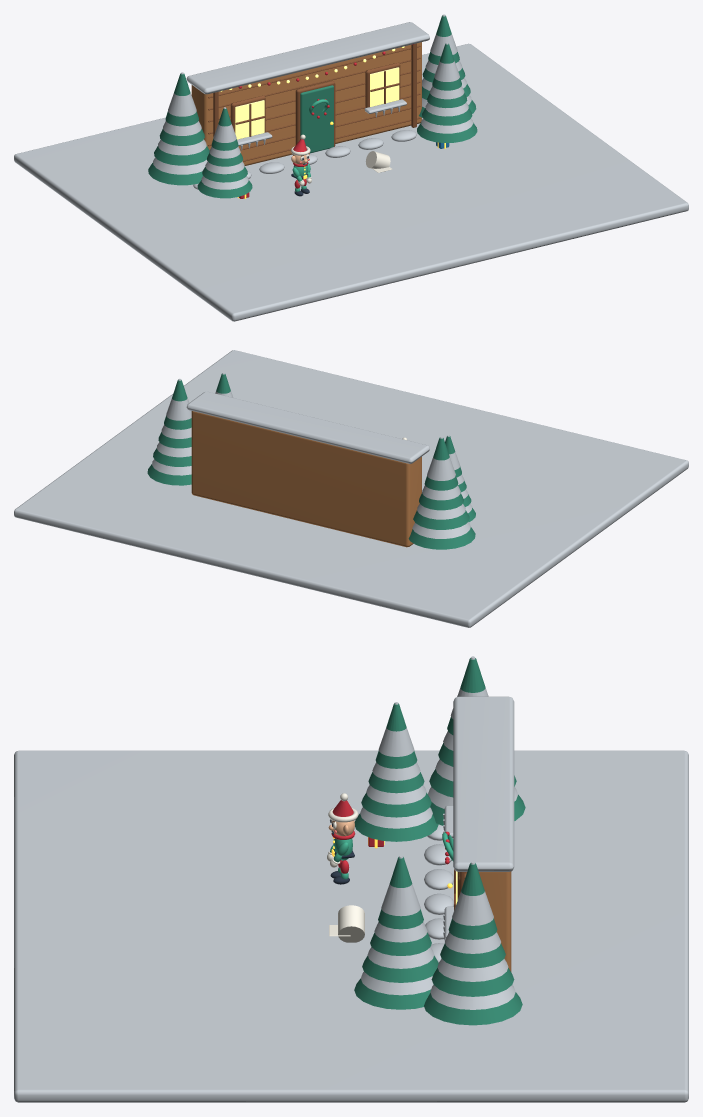
Rendered from chapter-15.glb.
The picture shows the model from 3 angles, top to bottom: view 1: azimuth 30°, elevation 25°; view 2: azimuth 150°, elevation 25°; view 3: azimuth 270°, elevation 25°; orthographic projection. The views are drawn at different scales.
Parts seen in each view (by area): view 1: Schneeboden, Werkstatt, Schneegesims, Wichteltür, Warmes Fenster, Warmes Fenster.001, Tannenzweig.004, Tannenzweig.008, Tannenzweig.009, Türrahmen, Tannenzweig.011, Schnee.011 (+7 smaller); view 2: Schneeboden, Werkstatt, Schneegesims, Tannenzweig.008, Tannenzweig.009, Tannenzweig.011, Schnee.008, Schnee.011, Tannenzweig.015, Tannenzweig.012, Tannenzweig.010, Schnee.009 (+1 smaller); view 3: Schneeboden, Schneegesims, Werkstatt, Tannenzweig.012, Tannenzweig.013, Tannenzweig.015, Tannenzweig, Schnee.012, Tannenzweig.005, Tannenzweig.004, Schnee.015, Tannenzweig.007 (+16 smaller).
Boxes of the visible parts, <box> form: Schneeboden: <box>14,43,688,321</box>; Werkstatt: <box>191,42,421,165</box>; Schneegesims: <box>186,22,429,94</box>; Wichteltür: <box>300,85,333,153</box>; Warmes Fenster: <box>235,100,264,139</box>; Warmes Fenster.001: <box>370,67,399,106</box>; Tannenzweig.004: <box>417,122,477,142</box>; Tannenzweig.008: <box>148,163,202,185</box>; Tannenzweig.009: <box>154,146,209,165</box>; Türrahmen: <box>295,81,335,146</box>; Tannenzweig.011: <box>165,73,198,126</box>; Schnee.011: <box>168,72,196,116</box>; Schneeboden: <box>14,350,688,627</box>; Werkstatt: <box>191,411,421,547</box>; Schneegesims: <box>186,391,429,463</box>; Tannenzweig.008: <box>408,527,475,549</box>; Tannenzweig.009: <box>413,510,469,529</box>; Tannenzweig.011: <box>424,437,458,490</box>; Schnee.008: <box>412,522,470,538</box>; Schnee.011: <box>427,436,455,480</box>; Tannenzweig.015: <box>164,380,191,429</box>; Tannenzweig.012: <box>147,464,191,485</box>; Tannenzweig.010: <box>419,493,463,510</box>; Schnee.009: <box>417,504,465,519</box>; Schneeboden: <box>14,750,688,1102</box>; Schneegesims: <box>453,696,514,871</box>; Werkstatt: <box>466,871,511,971</box>; Tannenzweig.012: <box>424,992,522,1025</box>; Tannenzweig.013: <box>431,968,514,996</box>; Tannenzweig.015: <box>448,863,497,939</box>; Tannenzweig: <box>354,813,438,841</box>; Schnee.012: <box>430,985,515,1009</box>; Tannenzweig.005: <box>362,955,438,982</box>; Tannenzweig.004: <box>354,978,430,1009</box>; Schnee.015: <box>452,861,493,925</box>; Tannenzweig.007: <box>378,857,423,929</box>.
Bounding box in the file's own units: 18 × 4.39 × 15.
